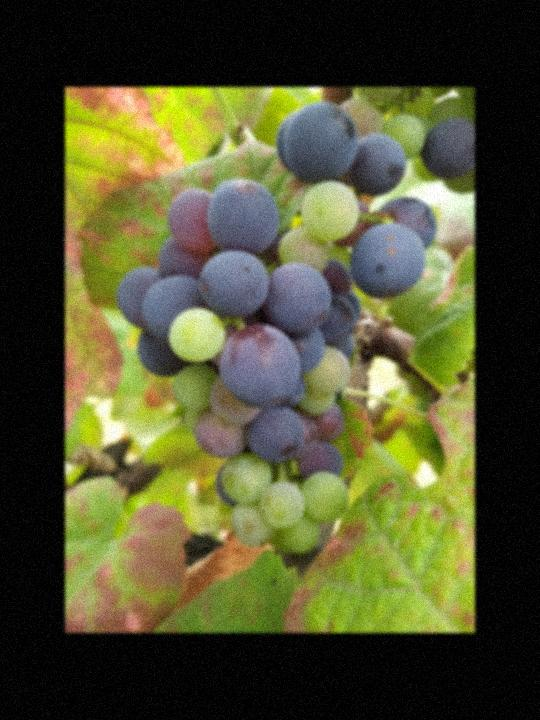grape: (114, 176, 363, 556)
